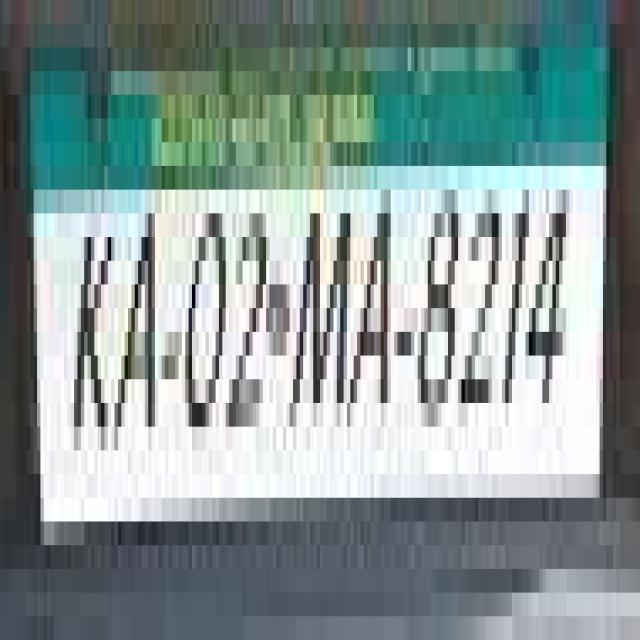0: (183, 198, 229, 462)
1: (499, 126, 530, 477)
4: (528, 155, 573, 462)
8: (413, 171, 462, 455)
A: (113, 198, 161, 505), (350, 170, 396, 444)
K: (68, 202, 114, 484), (228, 202, 266, 469)
M: (288, 170, 352, 470)
